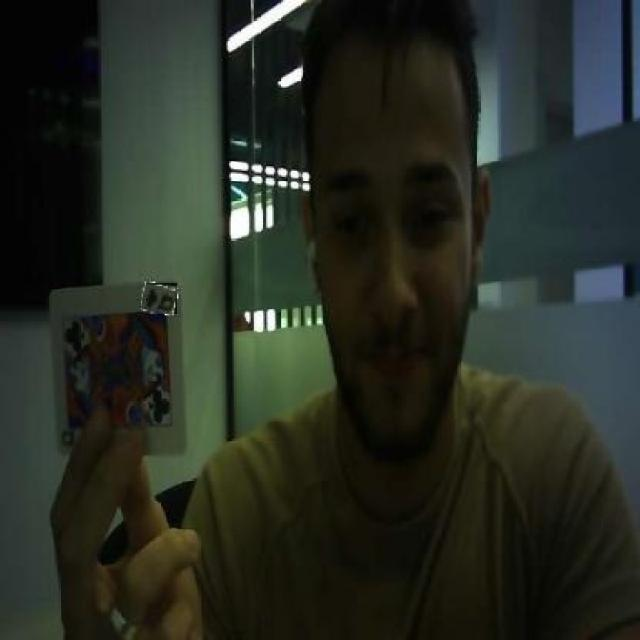QC: (141, 283, 177, 314)
